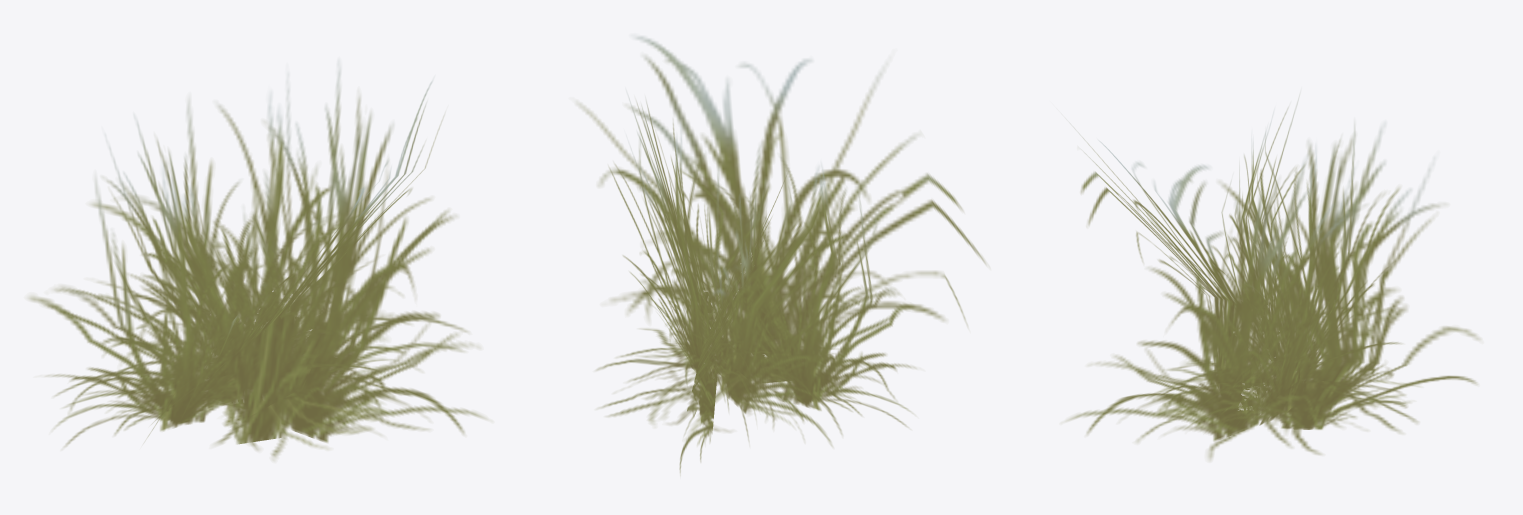
Rendered from ichu_08_nieve.glb.
3 renders of one model, left to right at view 1: azimuth 30°, elevation 25°; view 2: azimuth 150°, elevation 25°; view 3: azimuth 270°, elevation 25°, orthographic. The views are drawn at different scales.
Parts seen in each view (by area): view 1: Ichu; view 2: Ichu; view 3: Ichu.
Part boxes in pixels (<box>): Ichu: <box>28,60,487,460</box>; Ichu: <box>577,35,986,473</box>; Ichu: <box>1066,95,1480,460</box>.
Size of the model in its own units: 0.3301 by 0.29 by 0.331.
Materials: 1 (1 with a texture image).
